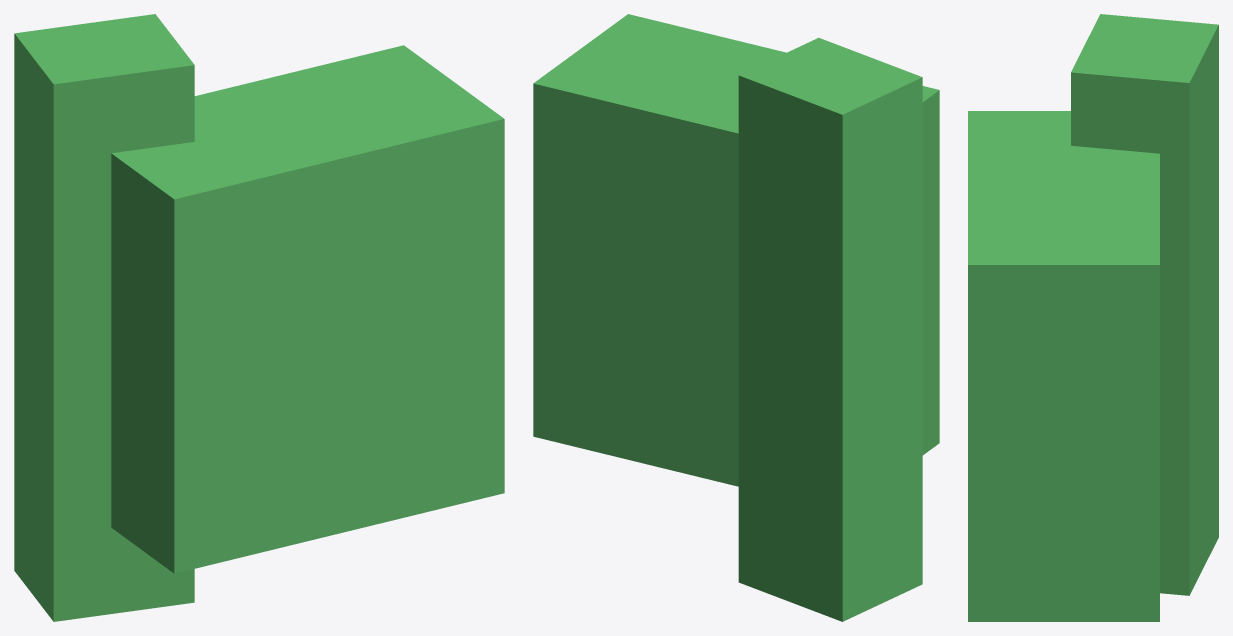
File: archer_role_kit_collision.glb
3 views of the same model, side by side, from view 1: azimuth 30°, elevation 25°; view 2: azimuth 150°, elevation 25°; view 3: azimuth 270°, elevation 25° (orthographic). The views are drawn at different scales.
Parts seen in each view (by area): view 1: archer_role_kit-col-torso, archer_role_kit-col-quiver; view 2: archer_role_kit-col-quiver, archer_role_kit-col-torso; view 3: archer_role_kit-col-torso, archer_role_kit-col-quiver.
Part boxes in pixels (x1=…): archer_role_kit-col-torso: x1=111, y1=45, x2=504, y2=573; archer_role_kit-col-quiver: x1=14, y1=14, x2=194, y2=621; archer_role_kit-col-quiver: x1=738, y1=37, x2=922, y2=621; archer_role_kit-col-torso: x1=533, y1=14, x2=939, y2=486; archer_role_kit-col-torso: x1=968, y1=111, x2=1159, y2=621; archer_role_kit-col-quiver: x1=1071, y1=14, x2=1218, y2=595.
Size of the model in its own units: 0.8319 by 1.12 by 0.4965.
